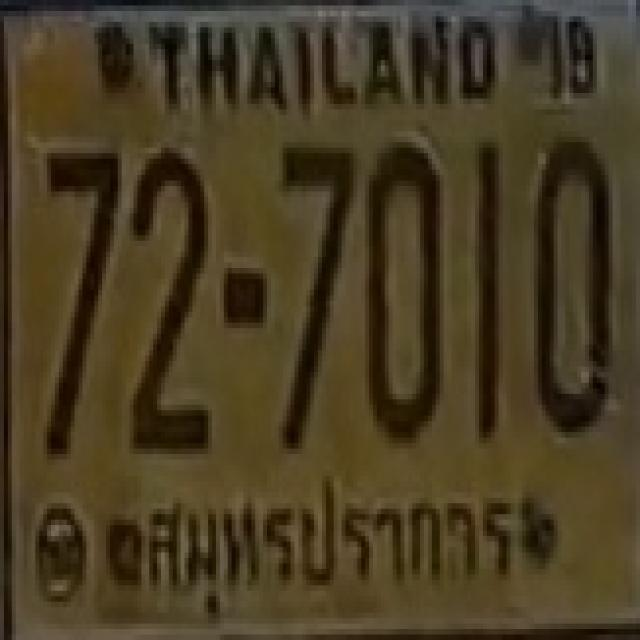0: (530, 131, 609, 427), (363, 136, 438, 438)
1: (471, 140, 502, 443)
2: (128, 148, 215, 458)
7: (39, 148, 118, 458), (279, 142, 353, 432)
SPK: (131, 469, 523, 608)
